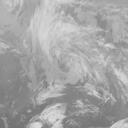cyclone: (21, 30, 98, 107)
